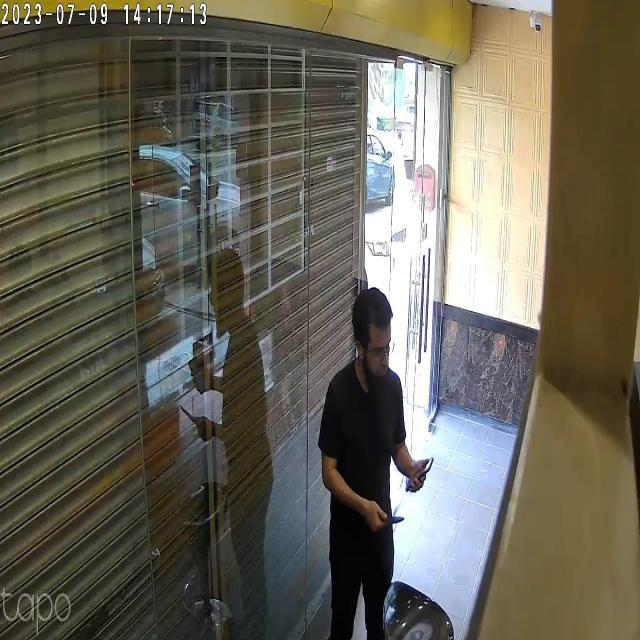Knife: (373, 504, 407, 534)
